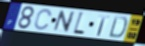8: (17, 6, 36, 30)
C: (33, 8, 53, 31)
D: (107, 15, 129, 40)
L: (71, 11, 86, 37)
N: (51, 10, 76, 34)
T: (97, 15, 111, 37)
